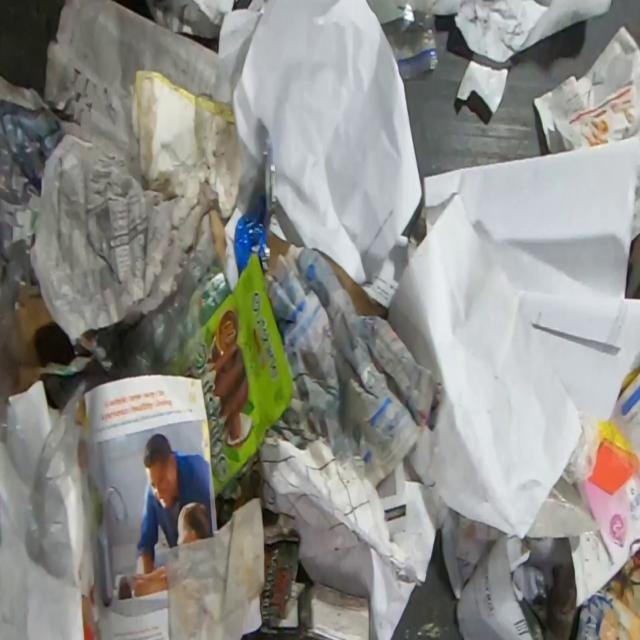cardboard: (0, 288, 74, 398), (257, 508, 314, 636), (321, 254, 388, 321), (208, 208, 227, 270), (266, 230, 290, 272)
metal: (234, 142, 278, 276)
rigid_plastic: (523, 475, 602, 541)
soft_plastic: (0, 247, 211, 640), (365, 0, 441, 82), (0, 239, 42, 357)
